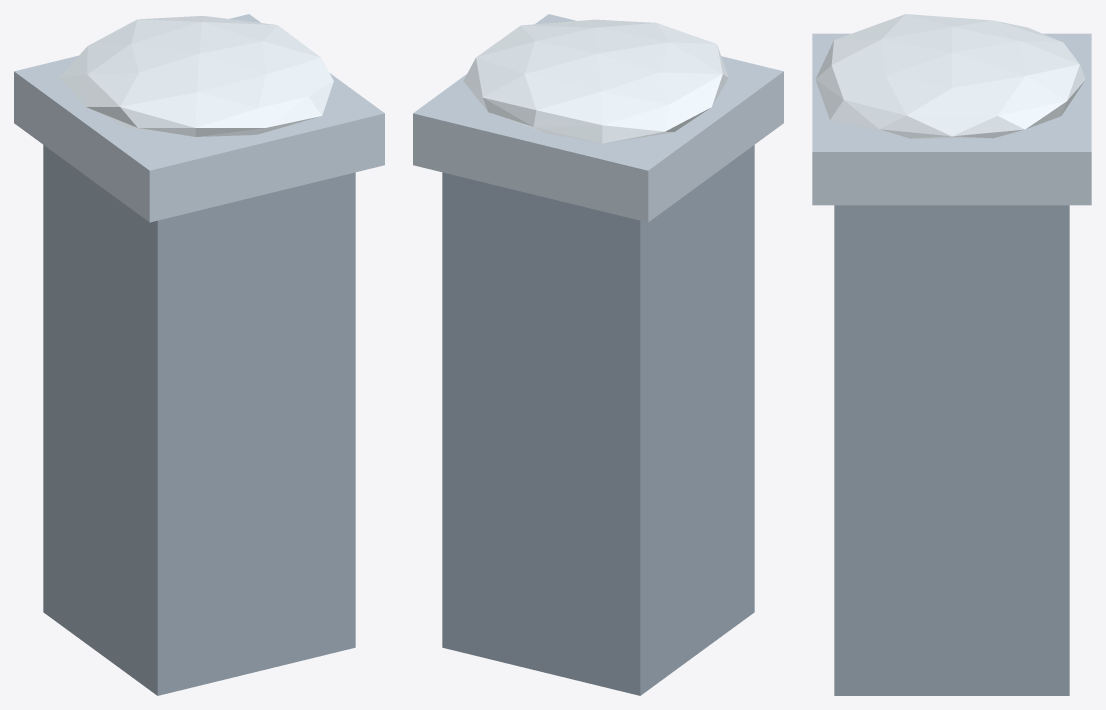
Rendered from wall-end-snowy.glb.
The picture shows the model from 3 angles, left to right: view 1: azimuth 30°, elevation 25°; view 2: azimuth 150°, elevation 25°; view 3: azimuth 270°, elevation 25°; orthographic projection. The views are drawn at different scales.
Visible parts, largest first — view 1: wall-end-kit-snowy-stone, wall-end-kit-snowy-light, wall-end-kit-snowy-top; view 2: wall-end-kit-snowy-stone, wall-end-kit-snowy-light, wall-end-kit-snowy-top; view 3: wall-end-kit-snowy-stone, wall-end-kit-snowy-top, wall-end-kit-snowy-light.
Part boxes in pixels (box(x1,y1,x2,y2)): wall-end-kit-snowy-stone: box(43, 145, 355, 695); wall-end-kit-snowy-light: box(14, 14, 384, 222); wall-end-kit-snowy-top: box(59, 15, 333, 136); wall-end-kit-snowy-stone: box(442, 145, 754, 695); wall-end-kit-snowy-light: box(413, 14, 783, 222); wall-end-kit-snowy-top: box(463, 19, 728, 143); wall-end-kit-snowy-stone: box(834, 205, 1069, 695); wall-end-kit-snowy-top: box(815, 14, 1085, 138); wall-end-kit-snowy-light: box(812, 33, 1091, 205).
Size of the model in its own units: 0.76 by 1.78 by 0.76.
